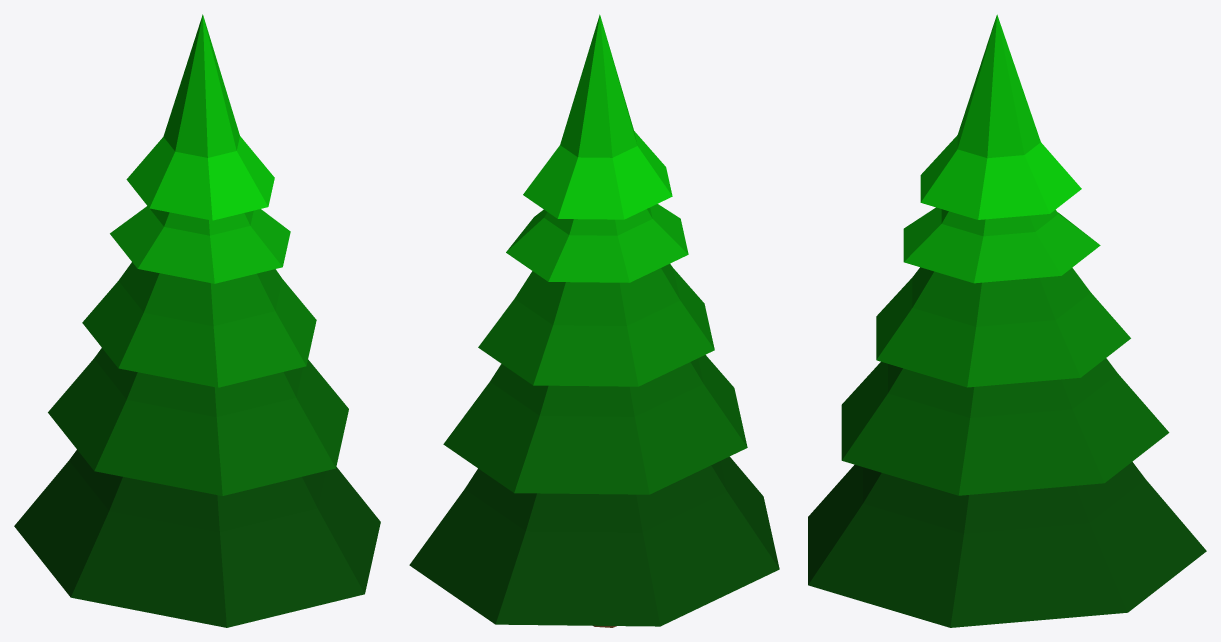
File: Pin.fbx
3 views of the same model, side by side, from view 1: azimuth 30°, elevation 25°; view 2: azimuth 150°, elevation 25°; view 3: azimuth 270°, elevation 25° (orthographic).
Visible parts, largest first — view 1: Vert.006; view 2: Vert.006; view 3: Vert.006.
Boxes of the visible parts, x1,y1,x2,y2 form: Vert.006: (14,14,380,627); Vert.006: (409,14,779,627); Vert.006: (808,14,1206,627).
Size of the model in its own units: 1480 by 2700 by 1623.
